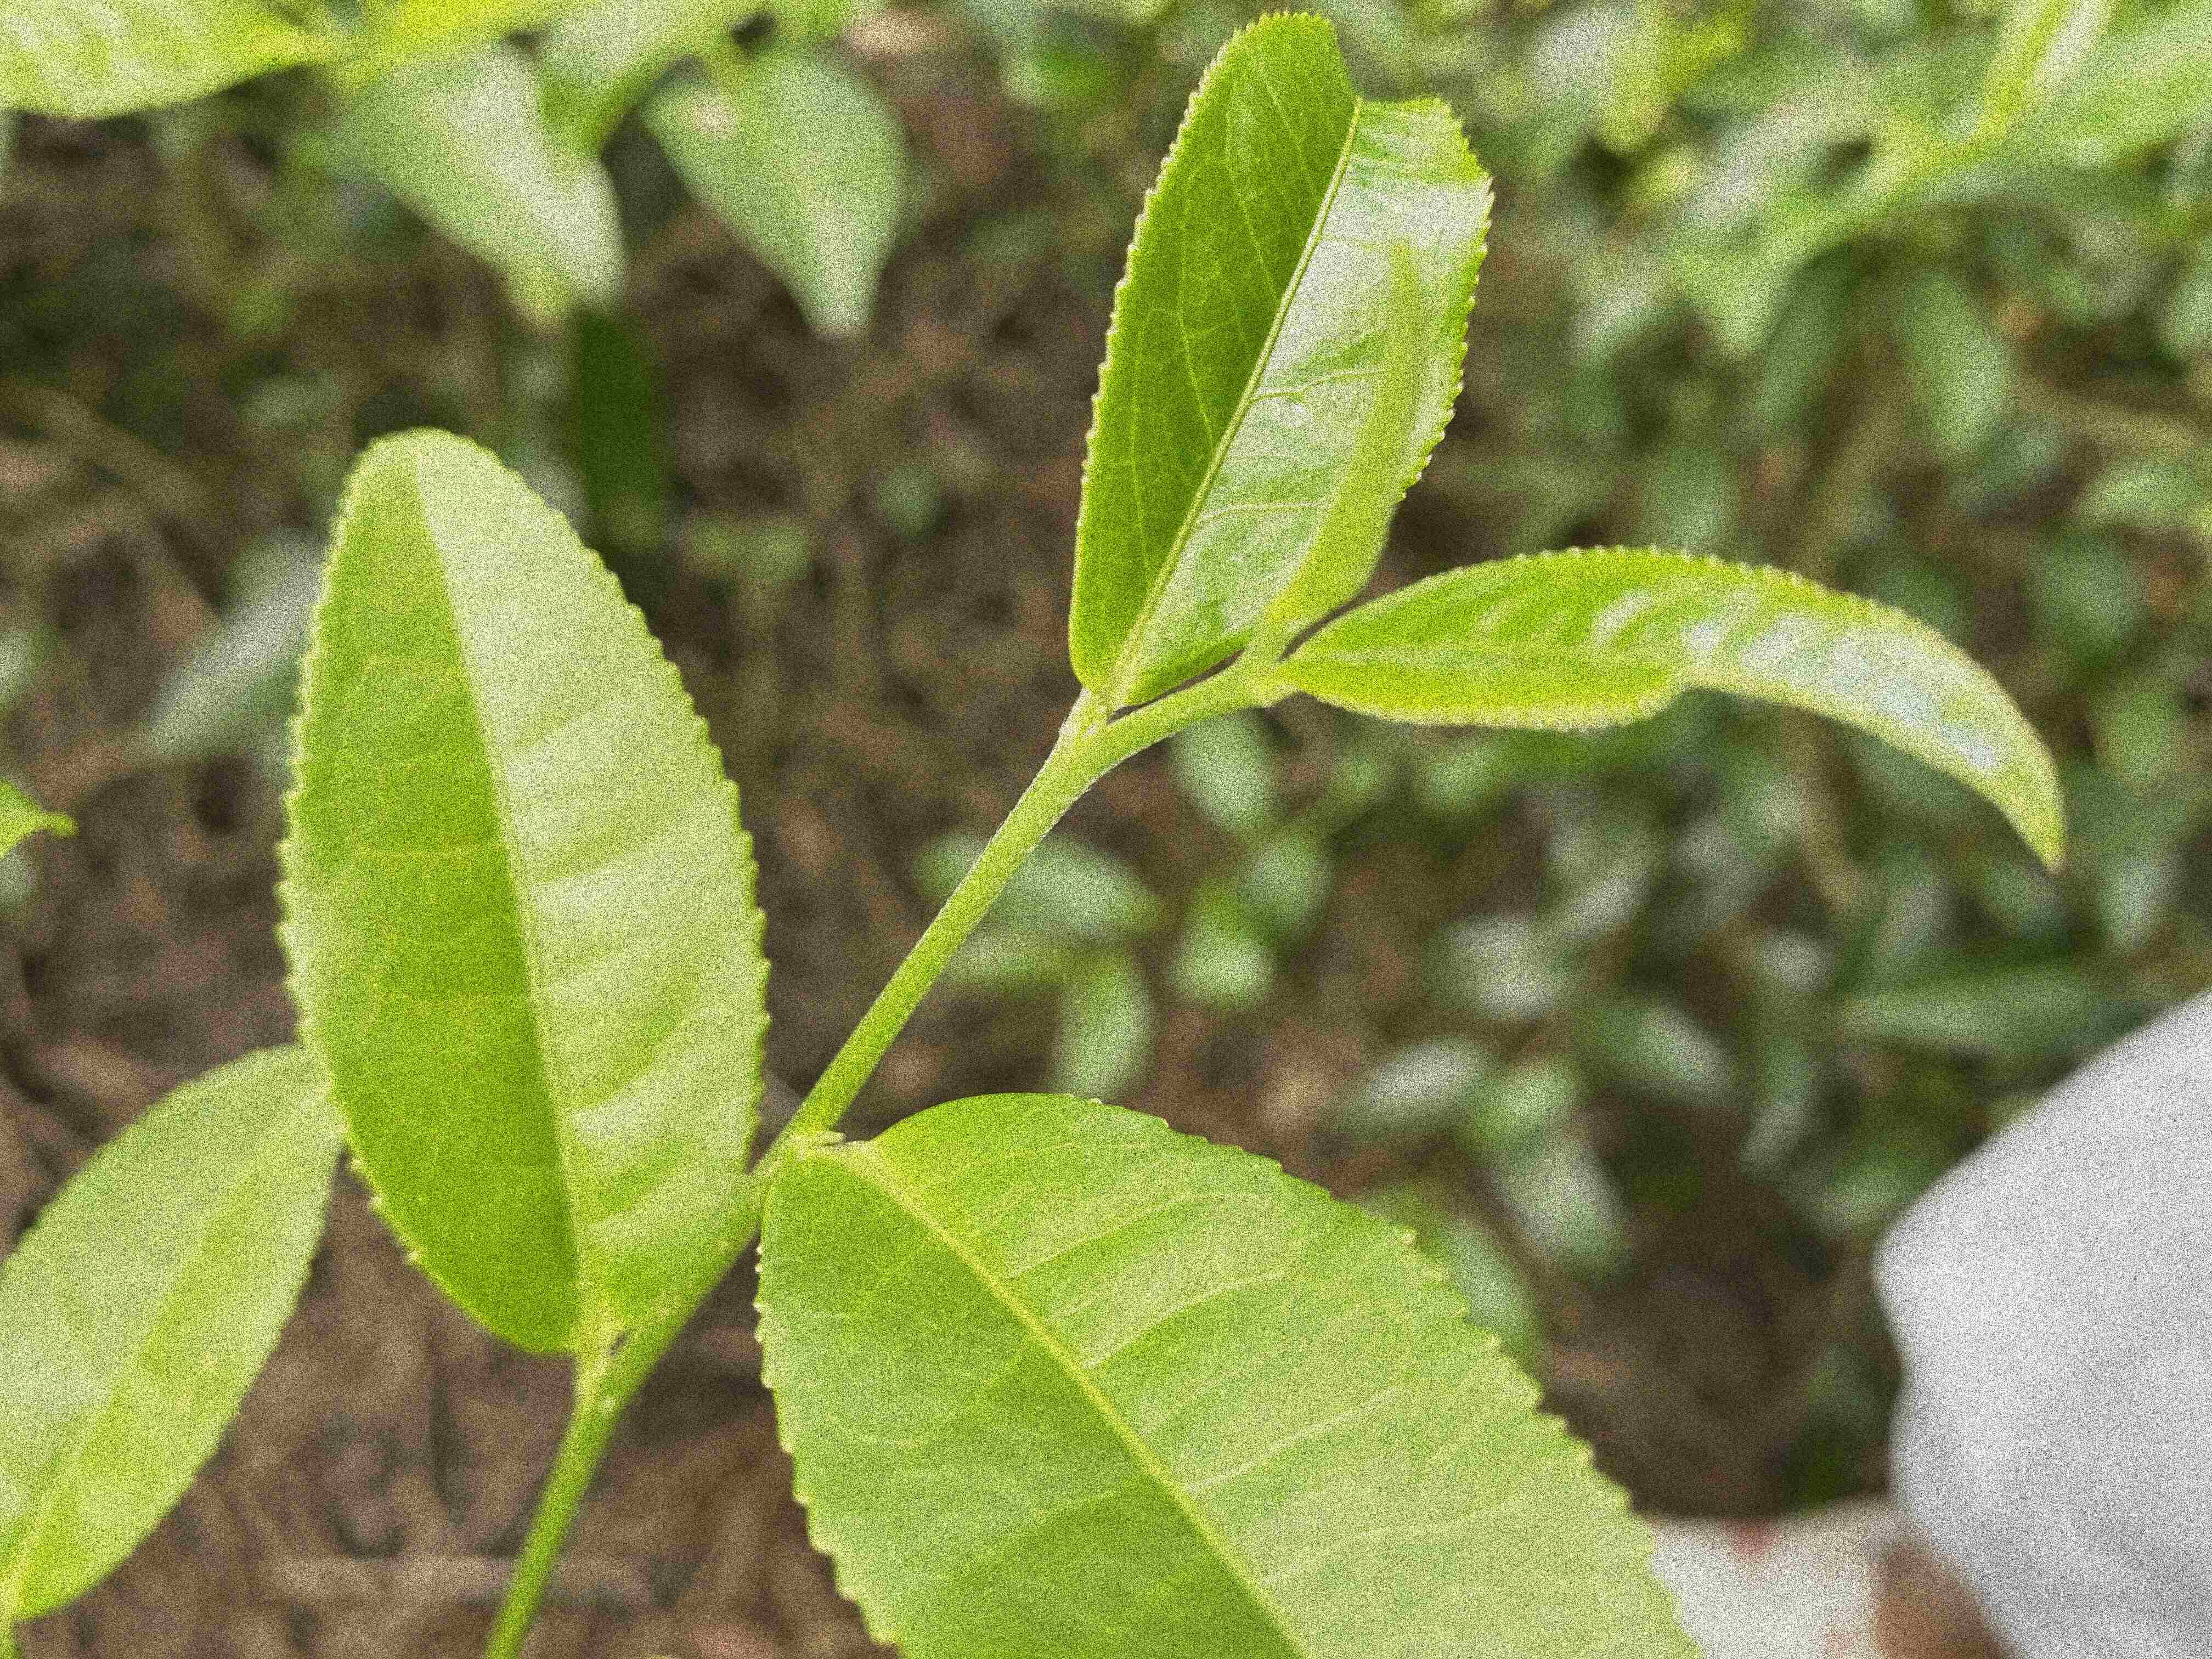healthy: (749, 1086, 1700, 1656), (270, 427, 773, 1352), (1066, 9, 1494, 706), (1292, 545, 2073, 868)
